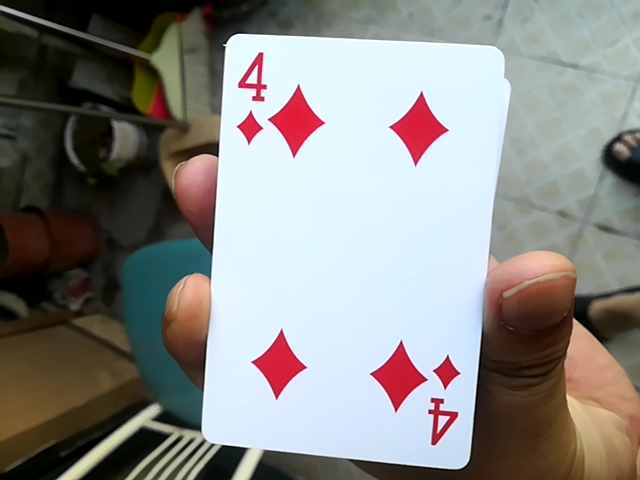fk 4: (186, 47, 497, 465)
